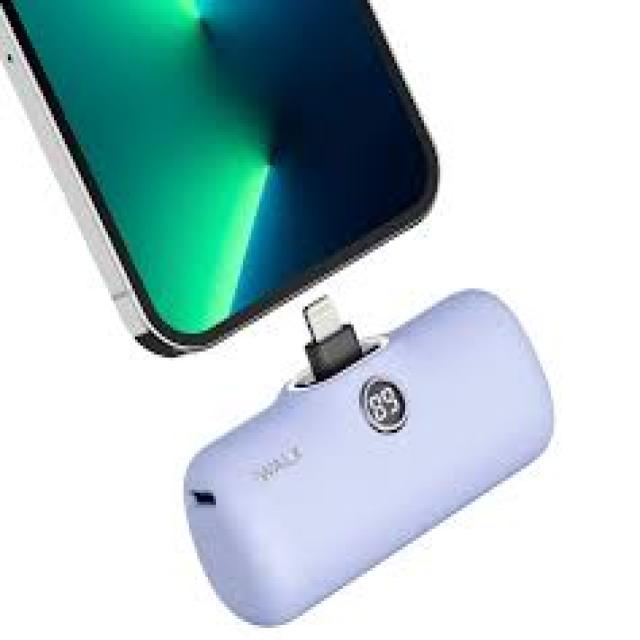power_bank: (177, 280, 559, 629)
